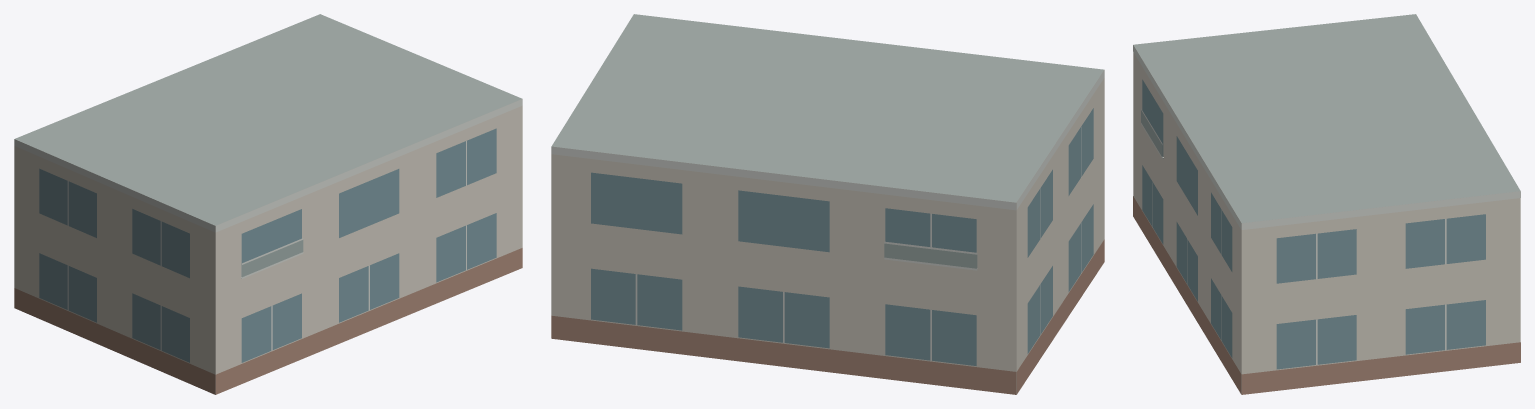
Rendered from survey-upis-33032151.glb.
3 views of the same model, side by side, from view 1: azimuth 30°, elevation 25°; view 2: azimuth 150°, elevation 25°; view 3: azimuth 270°, elevation 25° (orthographic). The views are drawn at different scales.
Visible parts, largest first — view 1: survey-upis-33032151.tmp; view 2: survey-upis-33032151.tmp; view 3: survey-upis-33032151.tmp.
Part boxes in pixels (bbox=[...]): survey-upis-33032151.tmp: bbox=[14, 14, 522, 394]; survey-upis-33032151.tmp: bbox=[551, 14, 1104, 394]; survey-upis-33032151.tmp: bbox=[1133, 14, 1520, 394].
Bounding box in the file's own units: 15.97 × 6.1 × 12.5.
